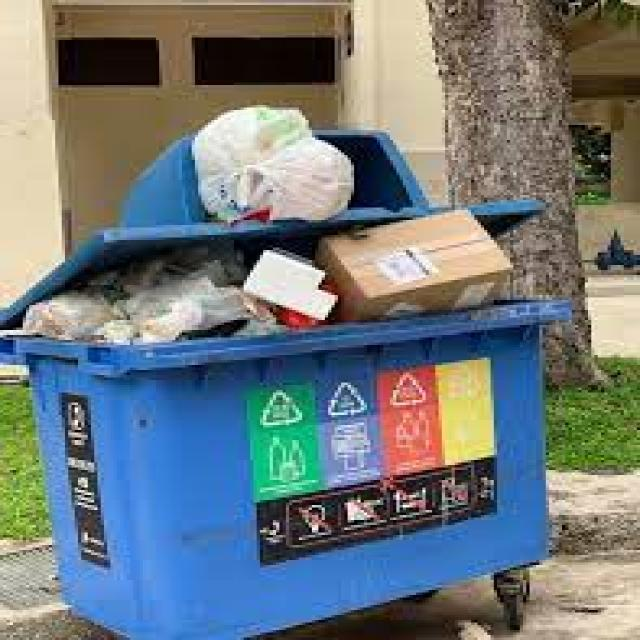cardboard: (315, 208, 533, 308), (65, 290, 234, 338)
trash: (185, 112, 351, 202)
